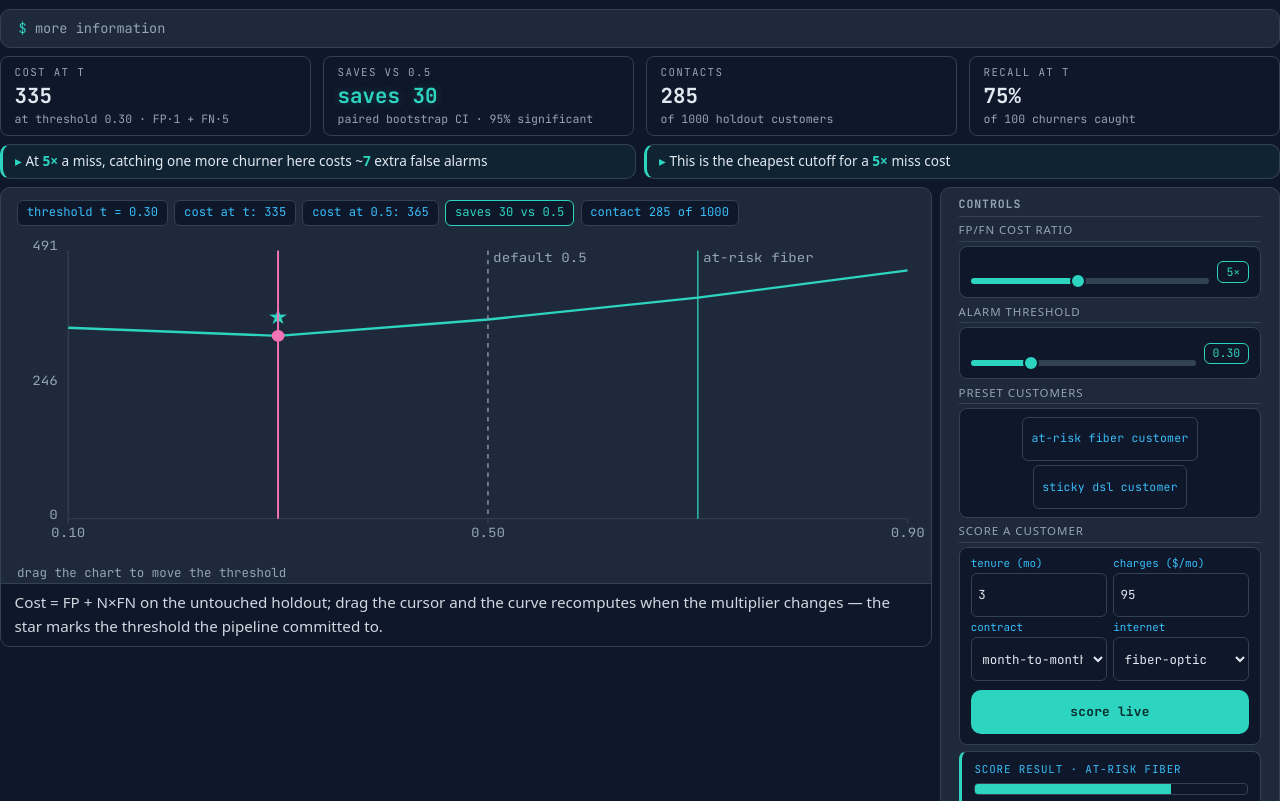
Test: ChurnSandbox › moves the threshold via pointer events and updates the outcome counts
This screenshot has width=1280, height=801.
Press the mouse on the picture named "campaign cost over alarm threshold" at [466, 393], box x1=1 y1=232 x2=931 y2=555
(page scrolled)
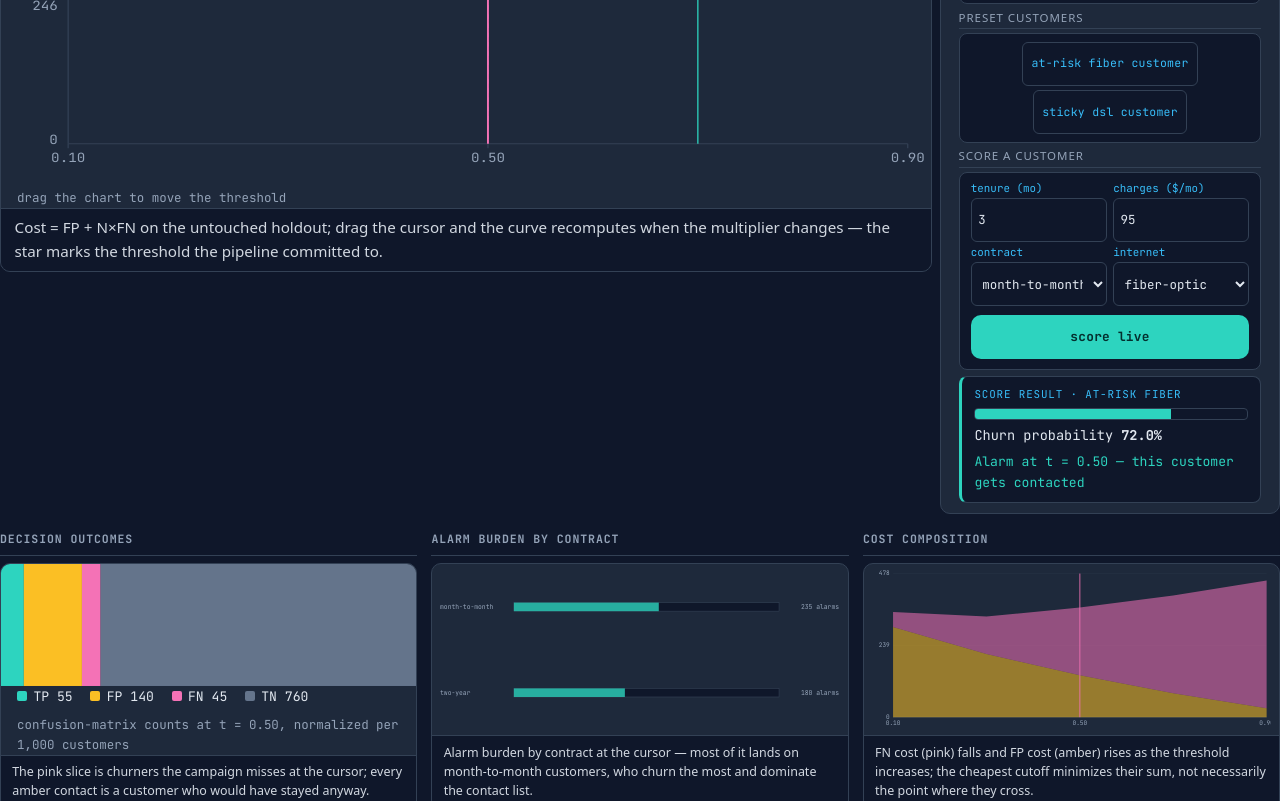
Now the text "TP 55" is shown, box x1=33 y1=686 x2=73 y2=707
Now the text "FP 140" is shown, box x1=107 y1=686 x2=154 y2=707
Now the text "FN 45" is shown, box x1=188 y1=686 x2=227 y2=707
